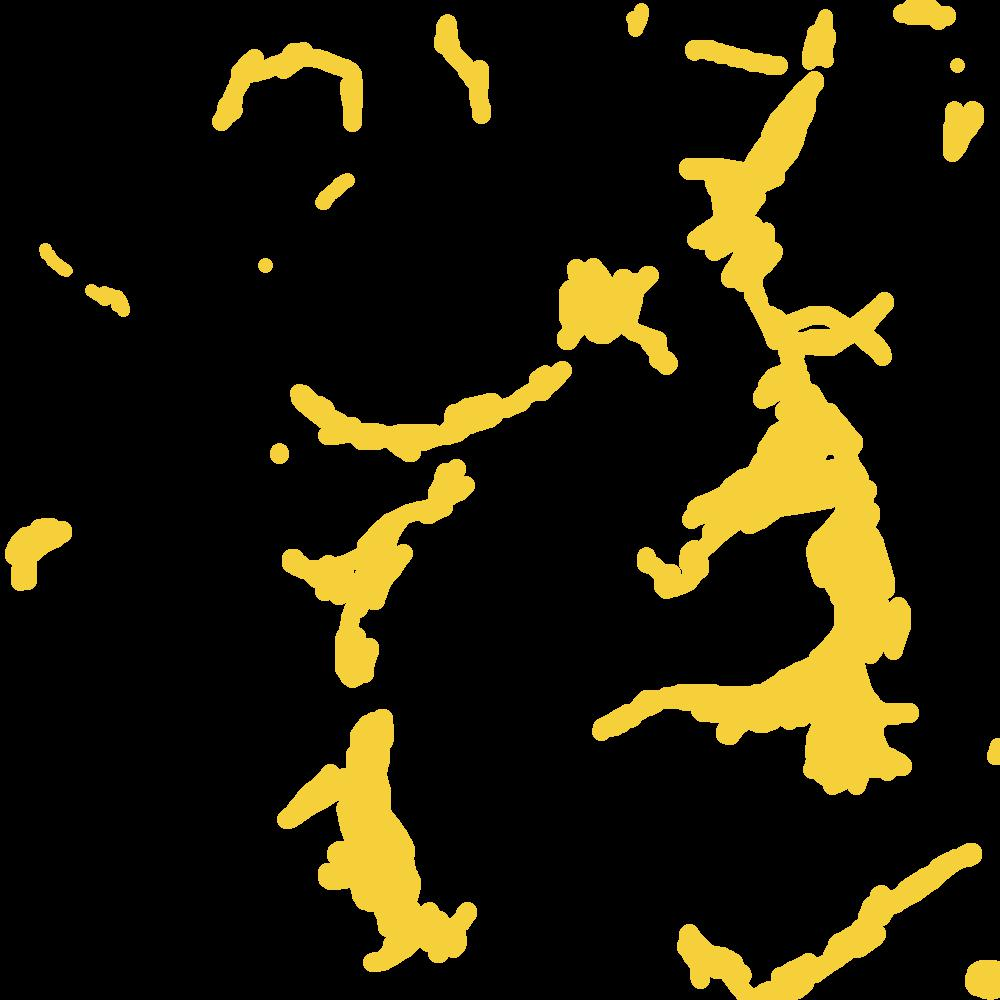legal: (592, 312, 941, 800), (281, 527, 464, 978), (685, 845, 967, 1000), (679, 24, 830, 303), (417, 365, 557, 517), (214, 28, 356, 132), (560, 253, 659, 348), (1, 515, 76, 590), (447, 19, 489, 132), (318, 151, 370, 207), (343, 420, 412, 452), (877, 1, 956, 27), (965, 950, 1000, 1000), (288, 377, 328, 417), (632, 1, 661, 41), (954, 105, 976, 152), (106, 278, 122, 326), (35, 248, 60, 268), (982, 741, 1000, 765), (268, 441, 289, 458), (952, 54, 964, 66)
